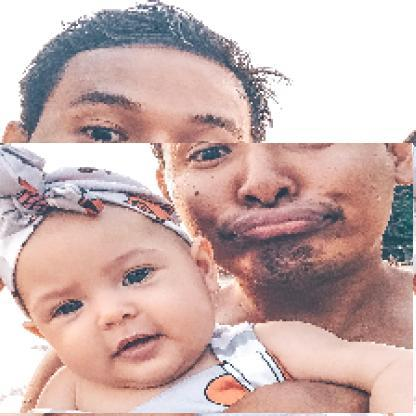child: (1, 144, 415, 415)
